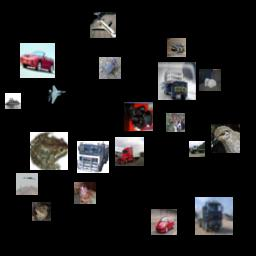airplane: (90, 12, 116, 38), (16, 173, 38, 195), (47, 85, 66, 104)
automobile: (20, 43, 55, 78), (151, 209, 177, 235)
bird: (211, 124, 240, 153)
dog: (124, 102, 153, 131), (199, 69, 221, 91), (74, 182, 96, 204), (166, 113, 185, 132)
frog: (30, 132, 68, 170), (99, 57, 121, 79), (167, 38, 186, 57), (32, 202, 51, 221)
ship: (5, 93, 21, 109)
truck: (195, 197, 233, 235), (158, 62, 196, 100), (77, 141, 109, 173), (115, 137, 144, 166), (189, 141, 205, 157)
